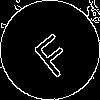F: (25, 25, 78, 80)
